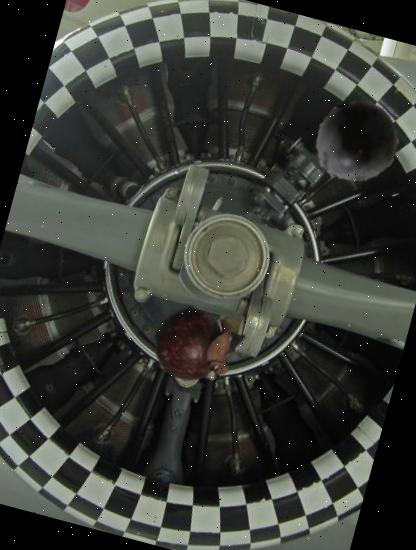Mangostan: (142, 291, 253, 402)
Plum: (304, 90, 409, 194)
